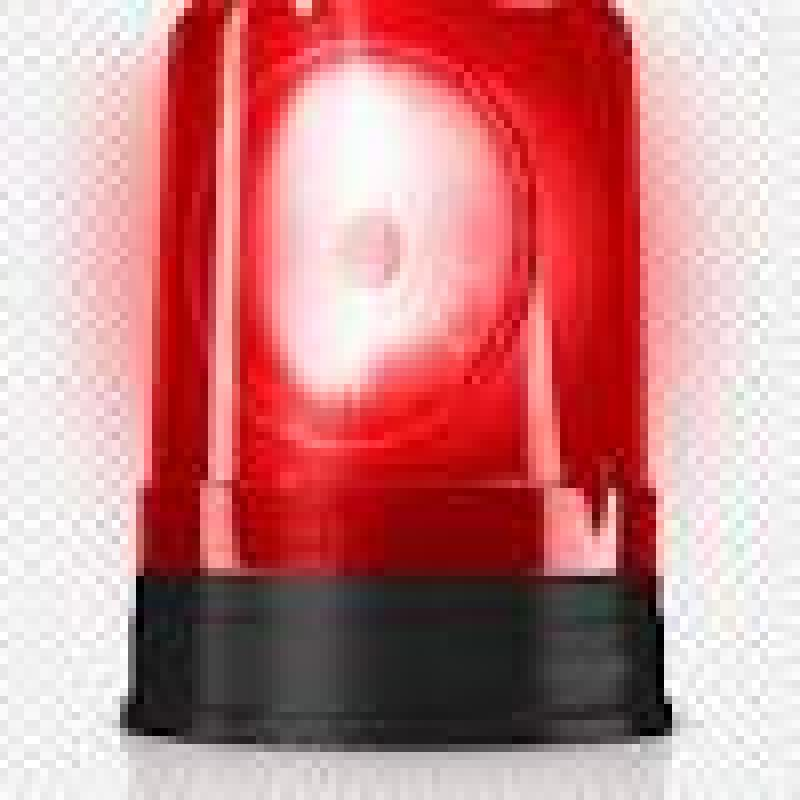AmbulanceSiren: (56, 0, 705, 765)
